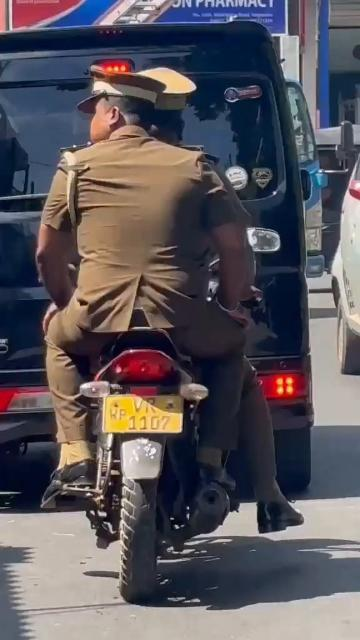no helmet: (74, 74, 157, 141)
number plate: (100, 385, 196, 448)
